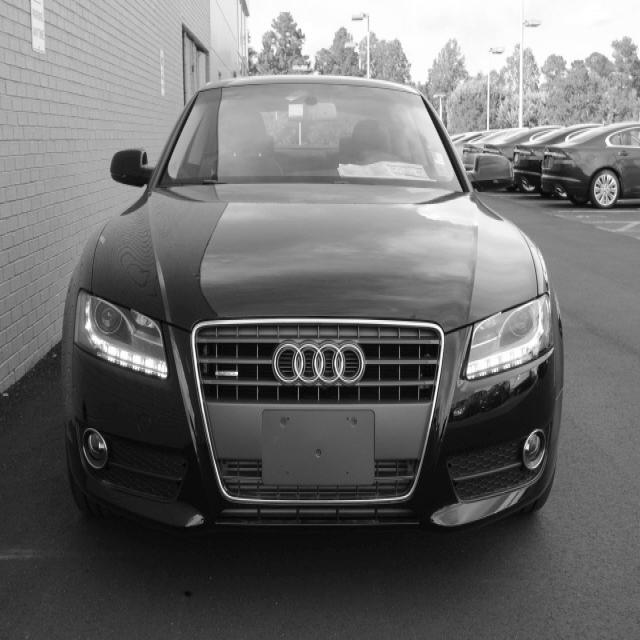car: (60, 74, 564, 534), (540, 120, 639, 208), (512, 123, 602, 193)
